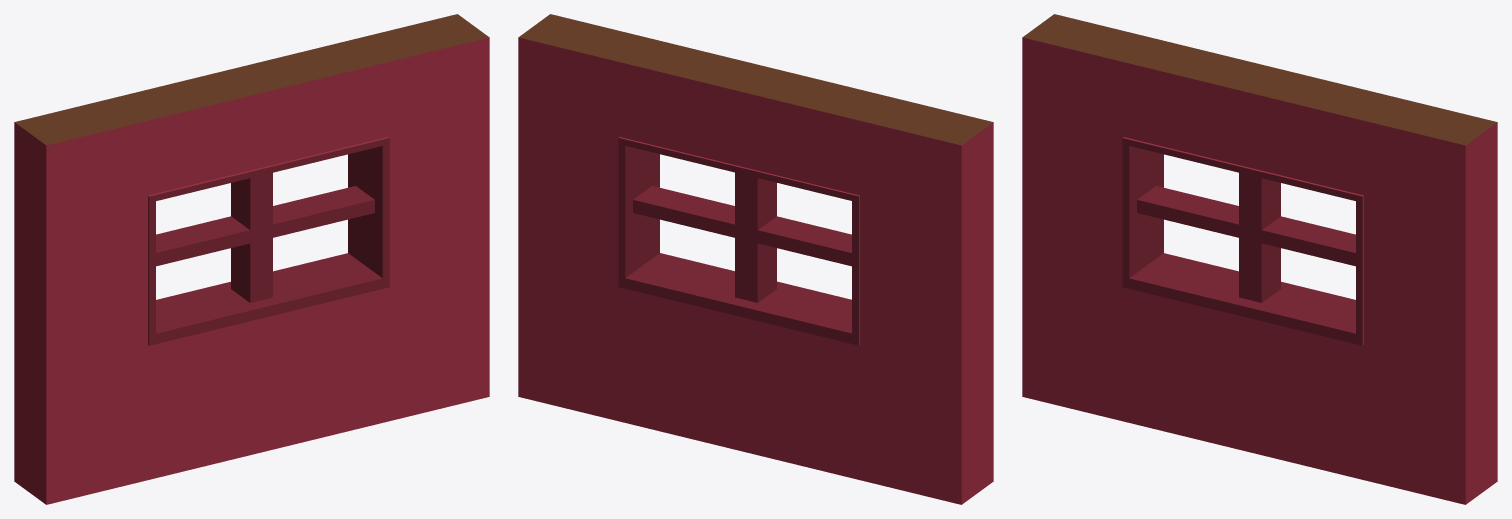
File: BigWindow_02.fbx
3 views of the same model, side by side, from view 1: azimuth 30°, elevation 25°; view 2: azimuth 150°, elevation 25°; view 3: azimuth 330°, elevation 25° (orthographic).
Visible parts, largest first — view 1: BigWindow_01; view 2: BigWindow_01; view 3: BigWindow_01.
Boxes of the visible parts, left/top/right/bottom form: BigWindow_01: left=14, top=14, right=489, bottom=504; BigWindow_01: left=518, top=14, right=993, bottom=504; BigWindow_01: left=1022, top=14, right=1497, bottom=504.
Size of the model in its own units: 400 by 310 by 54.11.
